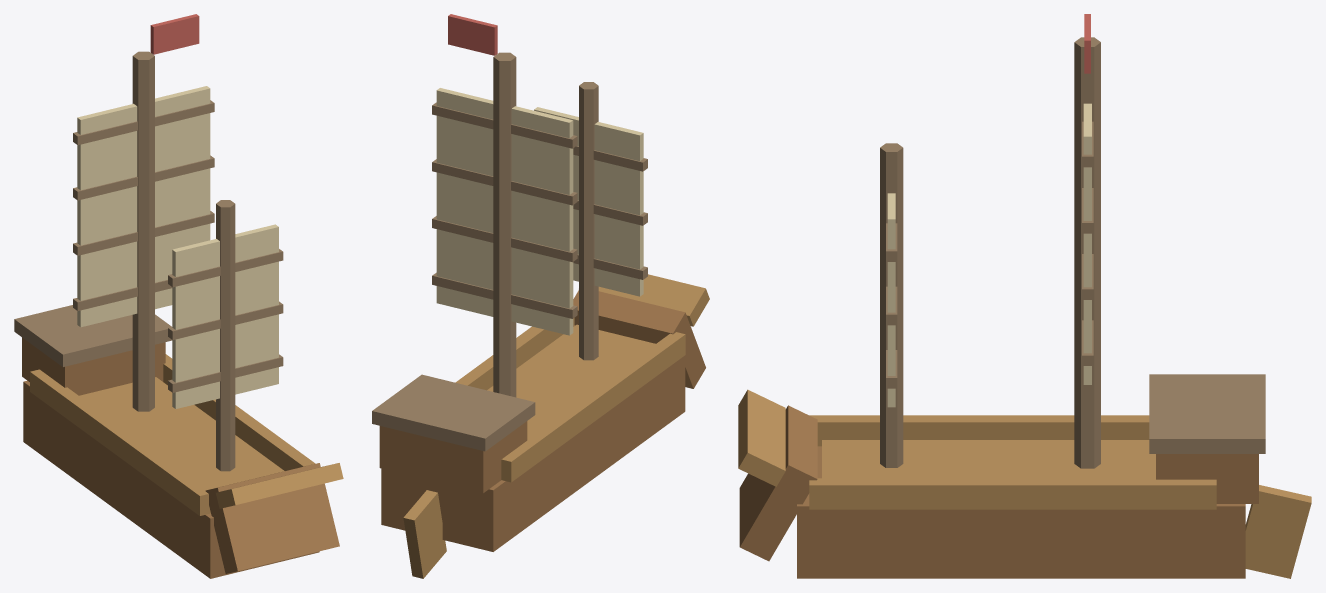
The model's file is troop-medium-ship.glb.
3 views of the same model, side by side, from view 1: azimuth 30°, elevation 25°; view 2: azimuth 150°, elevation 25°; view 3: azimuth 270°, elevation 25° (orthographic). The views are drawn at different scales.
Parts seen in each view (by area): view 1: sail, sail2, body, bow_panel, deck, mast, gunwale_l, poop_roof, fore_mast, poop, gunwale_r, bow_cap (+1 smaller); view 2: sail, body, sail2, poop_roof, mast, deck, gunwale_l, poop, fore_mast, bow_panel, rudder, bow_cap (+2 smaller); view 3: body, gunwale_r, deck, poop_roof, mast, gunwale_l, bow_panel, fore_mast, rudder, bow_cap, poop, sail (+1 smaller).
Part boxes in pixels (<box>): sail: <box>73,86,214,327</box>; sail2: <box>168,224,283,408</box>; body: <box>23,380,319,578</box>; bow_panel: <box>205,463,339,573</box>; deck: <box>79,377,284,489</box>; mast: <box>132,51,154,411</box>; gunwale_l: <box>30,369,210,515</box>; poop_roof: <box>14,305,172,366</box>; fore_mast: <box>216,200,235,471</box>; poop: <box>22,337,165,395</box>; gunwale_r: <box>163,354,315,470</box>; bow_cap: <box>216,463,343,508</box>; sail: <box>432,88,577,335</box>; body: <box>381,325,685,551</box>; sail2: <box>534,107,647,296</box>; poop_roof: <box>372,374,535,451</box>; mast: <box>493,52,516,397</box>; deck: <box>487,324,655,437</box>; gunwale_l: <box>501,332,685,482</box>; poop: <box>379,421,527,493</box>; fore_mast: <box>579,82,598,360</box>; bow_panel: <box>573,290,705,388</box>; rudder: <box>403,490,446,578</box>; bow_cap: <box>598,274,709,326</box>; body: <box>797,446,1245,578</box>; gunwale_r: <box>809,478,1216,509</box>; deck: <box>822,440,1155,478</box>; poop_roof: <box>1149,374,1265,453</box>; mast: <box>1074,37,1100,468</box>; gunwale_l: <box>809,415,1149,446</box>; bow_panel: <box>739,405,817,561</box>; fore_mast: <box>880,143,903,467</box>; rudder: <box>1245,485,1311,578</box>; bow_cap: <box>738,389,785,486</box>; poop: <box>1156,454,1258,503</box>; sail: <box>1082,103,1093,384</box>.
Size of the model in its own units: 0.114 by 0.3763 by 0.3451.
